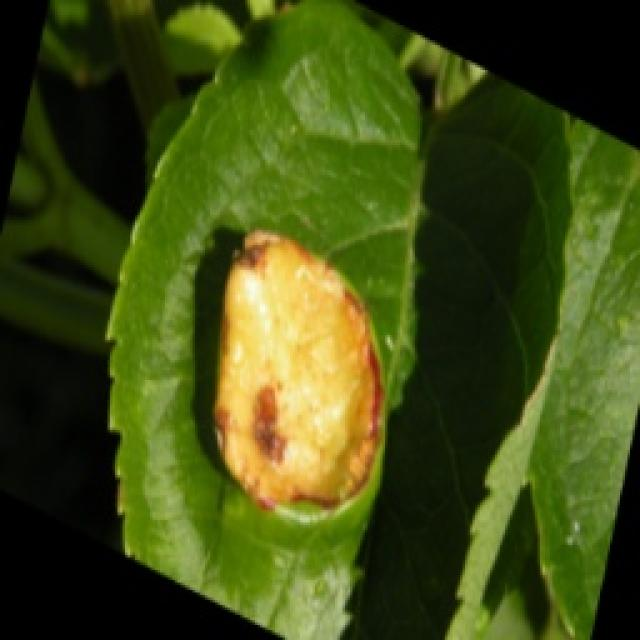Elderberry_rust: (207, 227, 385, 515)
